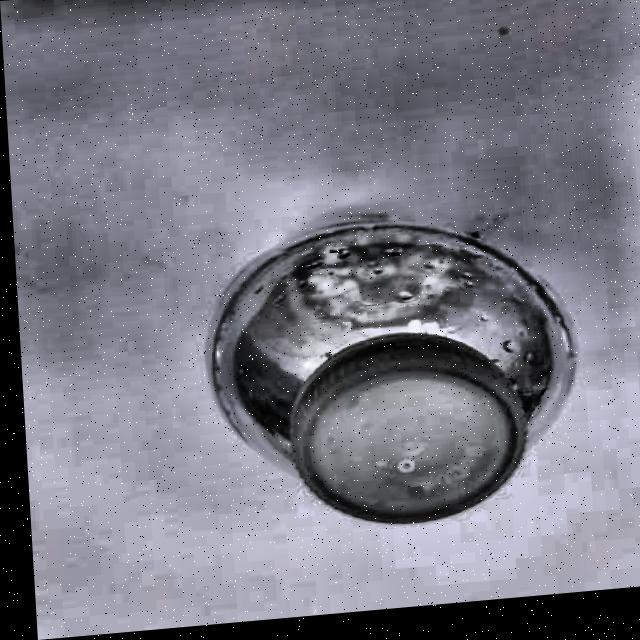plastic: (201, 205, 589, 542)
